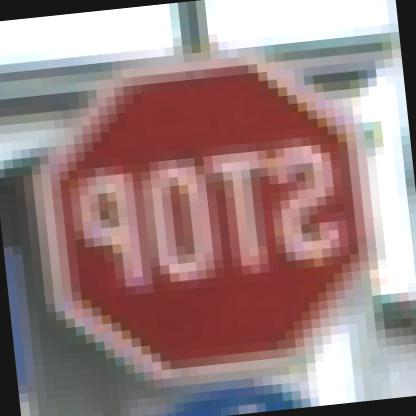stop: (11, 26, 398, 400)
